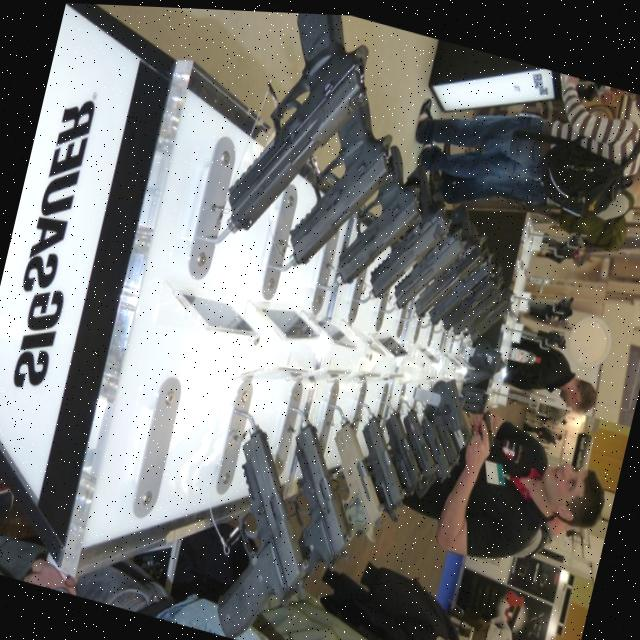firearm: (526, 278, 577, 323), (537, 215, 585, 262), (533, 319, 569, 349)
pistol: (218, 8, 386, 259), (196, 414, 340, 640), (282, 76, 409, 285), (330, 131, 438, 301), (265, 411, 374, 575), (363, 151, 462, 313), (310, 410, 405, 547), (410, 191, 496, 328), (342, 405, 422, 524), (389, 208, 470, 322), (368, 403, 438, 501), (424, 241, 494, 334), (386, 399, 450, 497), (406, 398, 465, 480), (449, 263, 511, 341), (438, 255, 498, 335), (461, 271, 515, 343), (468, 283, 514, 345), (474, 403, 502, 446)
